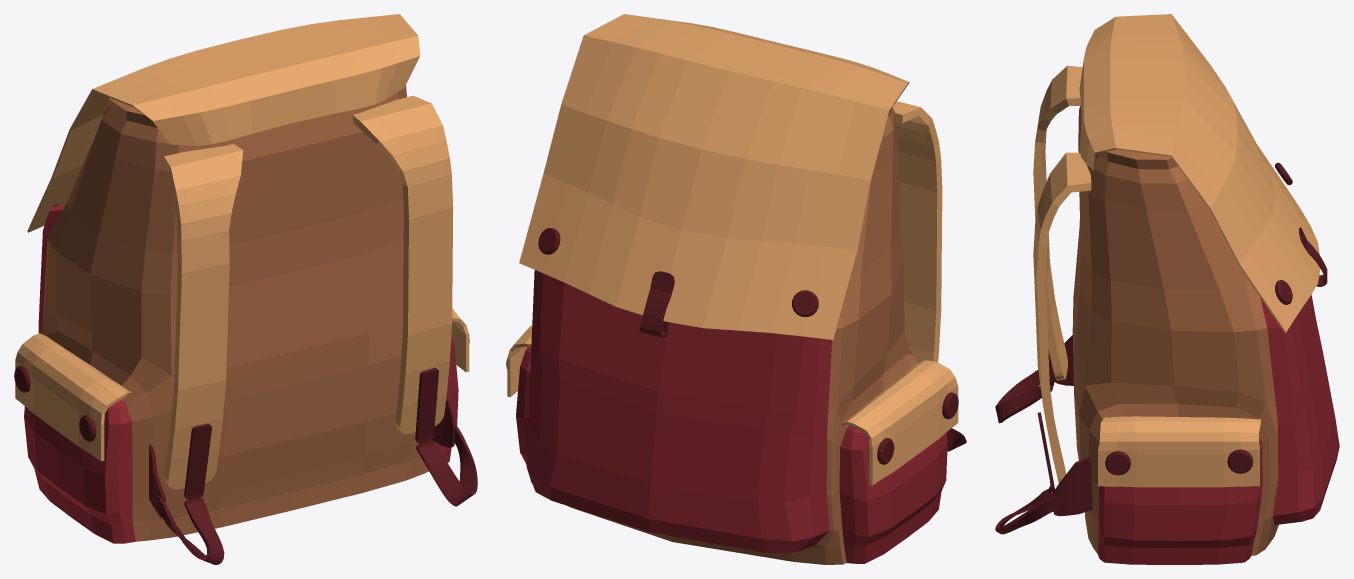
Rendered from schoolBag.fbx.
The picture shows the model from 3 angles, left to right: view 1: azimuth 30°, elevation 25°; view 2: azimuth 150°, elevation 25°; view 3: azimuth 270°, elevation 25°; orthographic projection. The views are drawn at different scales.
Parts seen in each view (by area): view 1: schoolBag; view 2: schoolBag; view 3: schoolBag.
Part boxes in pixels (left/top/right/bottom): schoolBag: left=14, top=14, right=477, bottom=564; schoolBag: left=506, top=14, right=966, bottom=564; schoolBag: left=995, top=14, right=1339, bottom=564.
Bounding box in the file's own units: 35.37 × 38.53 × 29.56.
